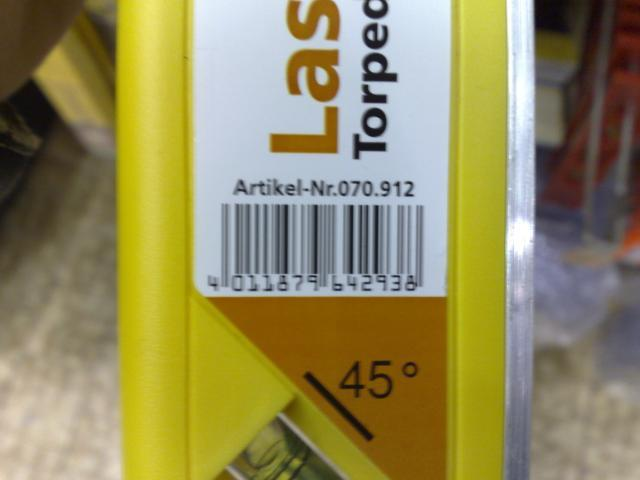Barcode: (201, 195, 443, 297)
